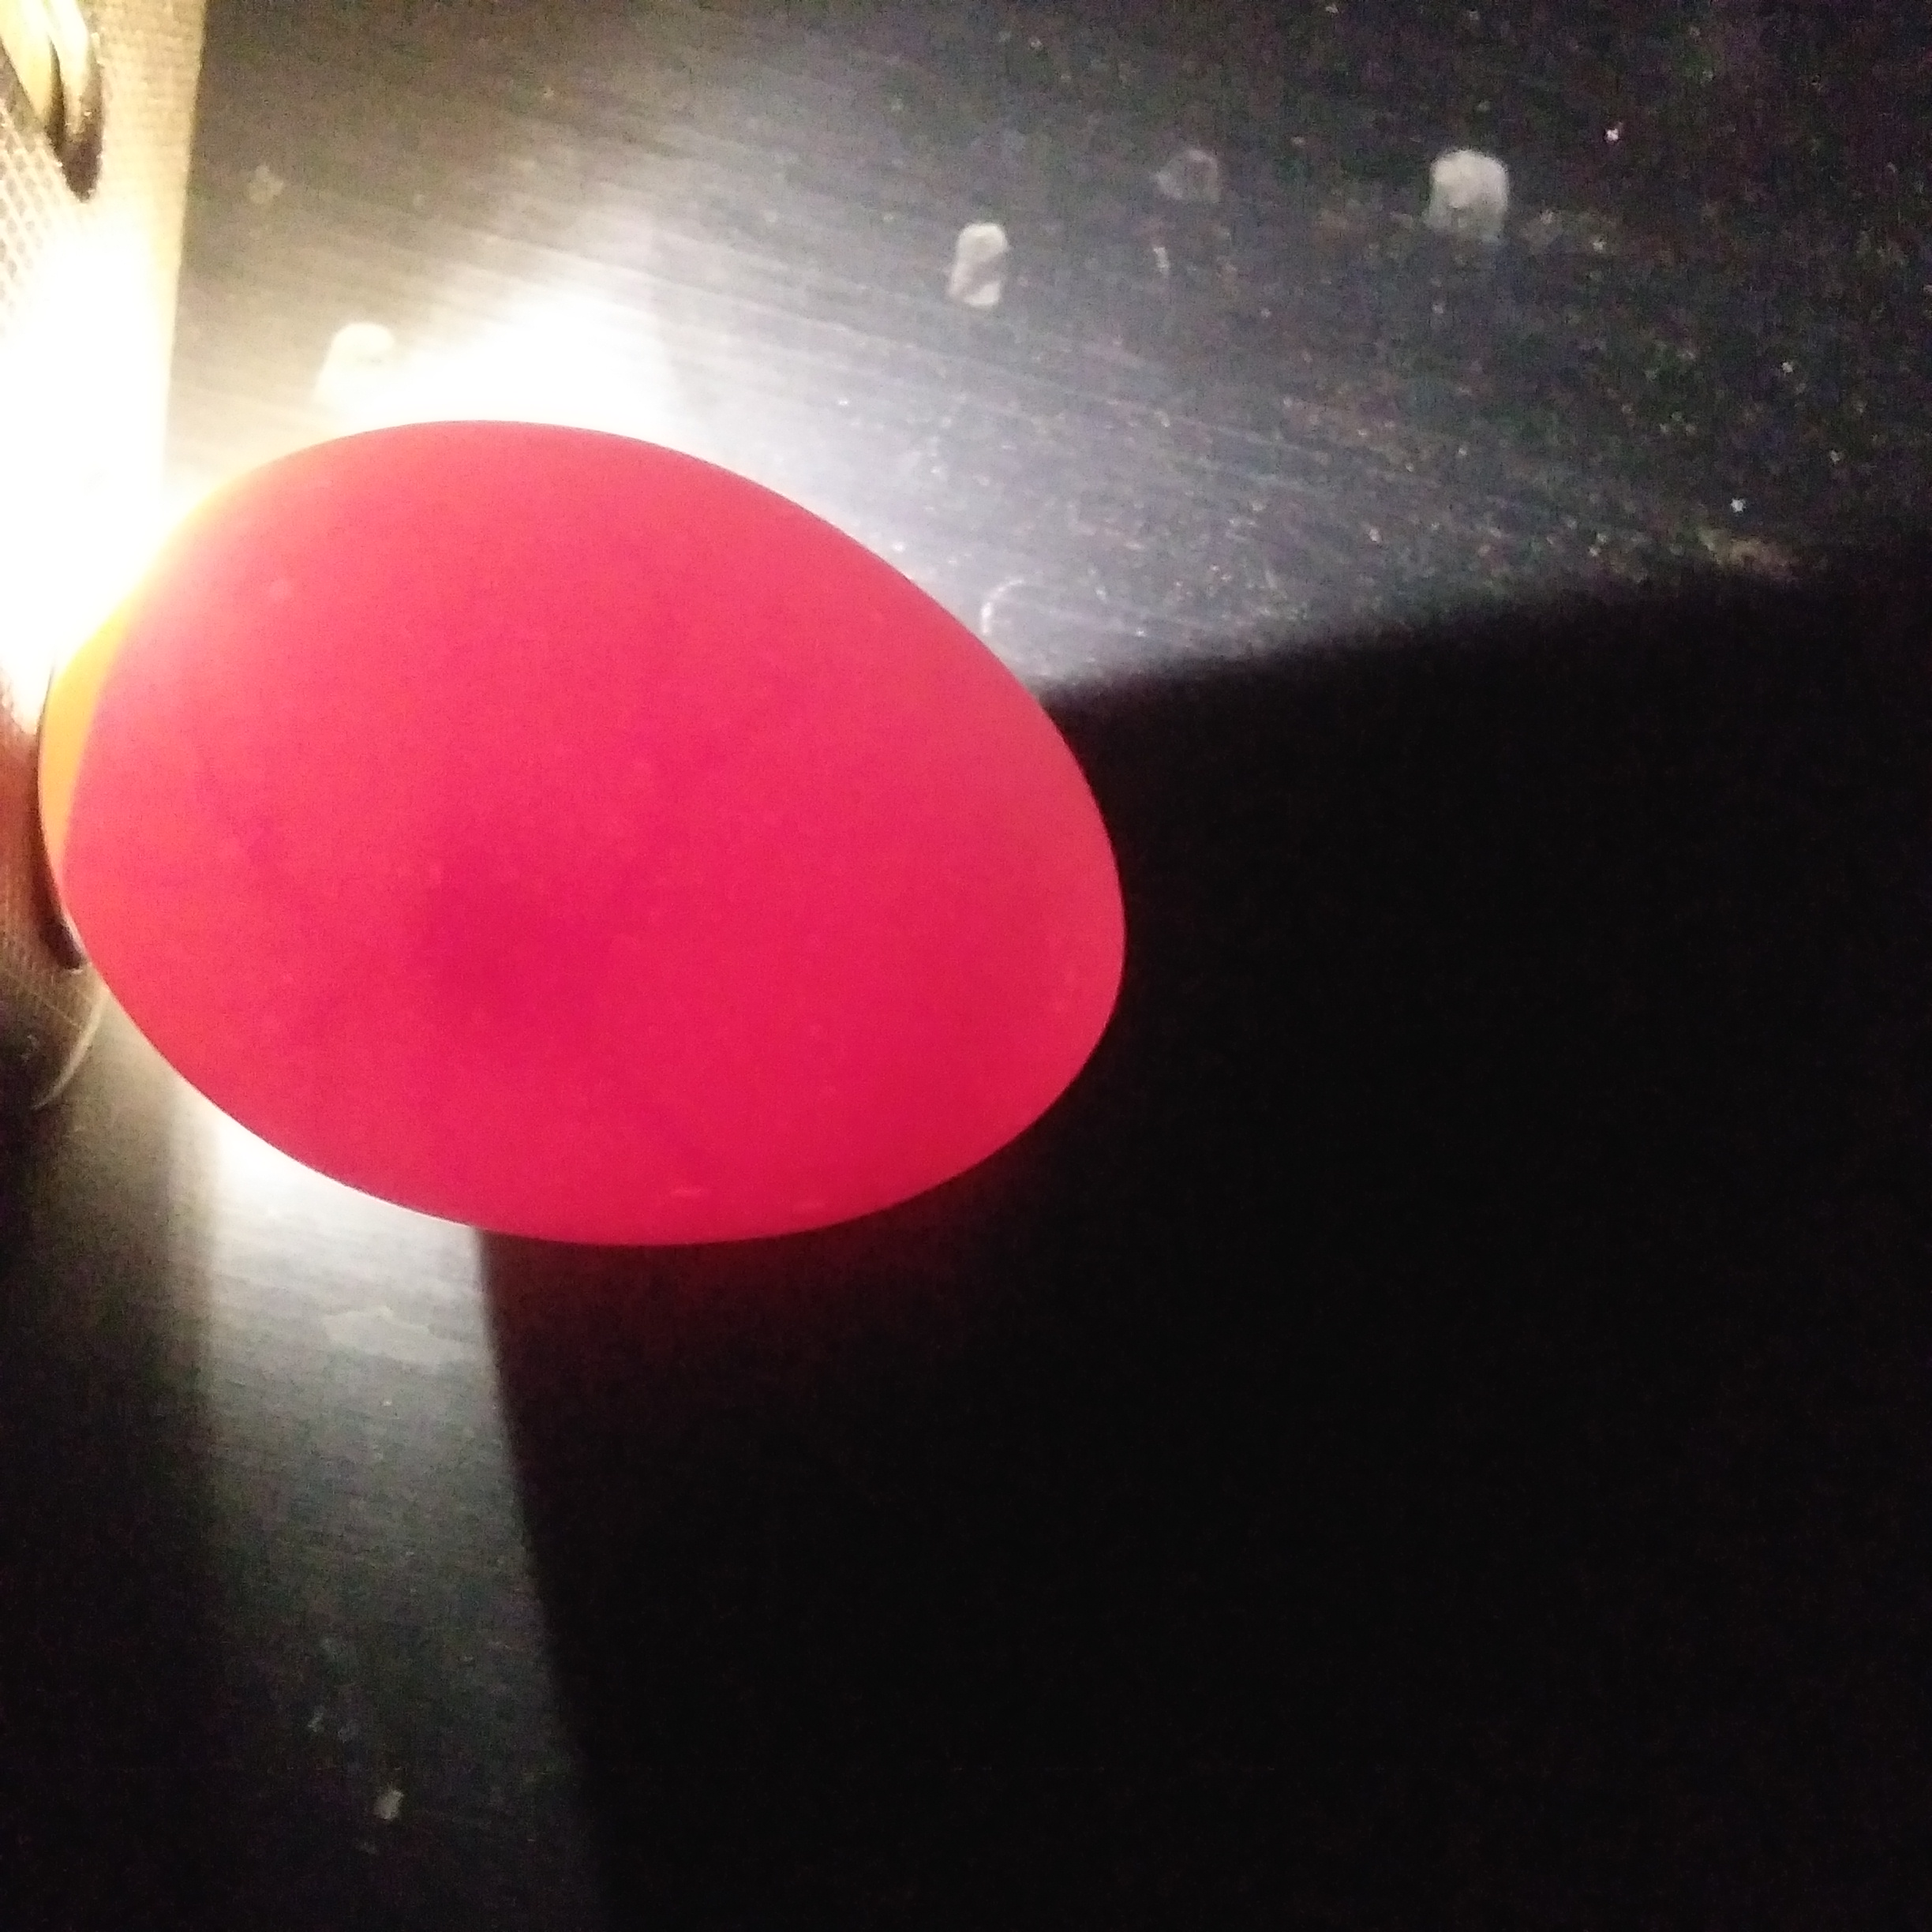bloodcell: (582, 674, 791, 872)
embryo: (382, 853, 538, 1047)
